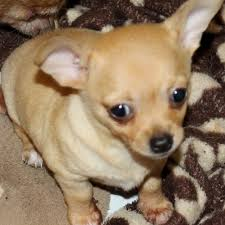Bulldog: (2, 2, 225, 225)
